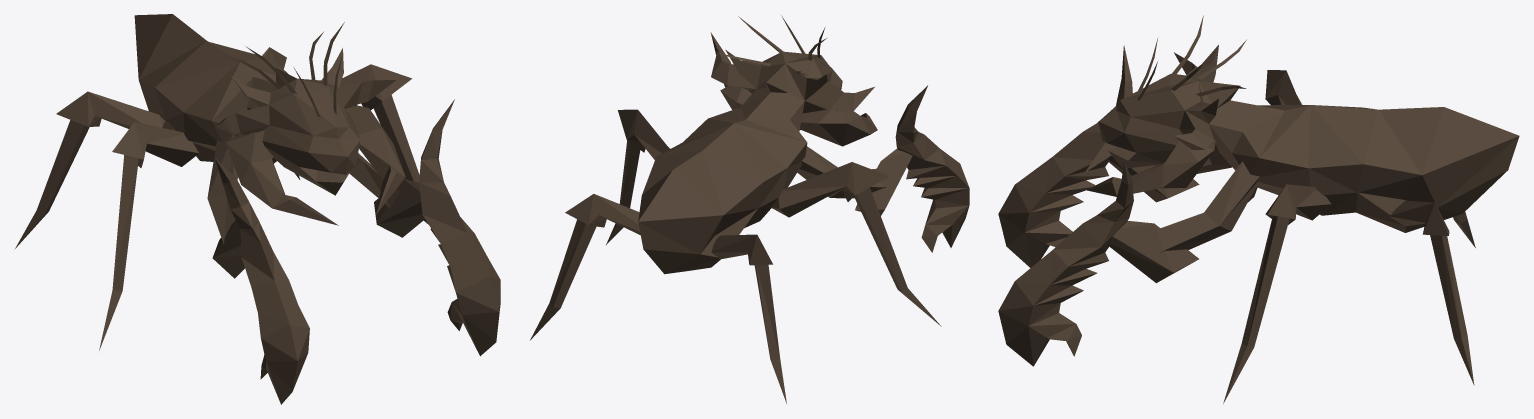
File: CR2_BODY.OBJ
3 renders of one model, left to right at view 1: azimuth 30°, elevation 25°; view 2: azimuth 150°, elevation 25°; view 3: azimuth 270°, elevation 25°, orthographic. The views are drawn at different scales.
Parts seen in each view (by area): view 1: CR2_BODY; view 2: CR2_BODY; view 3: CR2_BODY.
Boxes of the visible parts, box(x1,y1,x2,y2) form: CR2_BODY: box(14, 14, 500, 404); CR2_BODY: box(530, 15, 969, 403); CR2_BODY: box(998, 15, 1519, 403).
Bounding box in the file's own units: 2.34 × 1.71 × 2.87.
